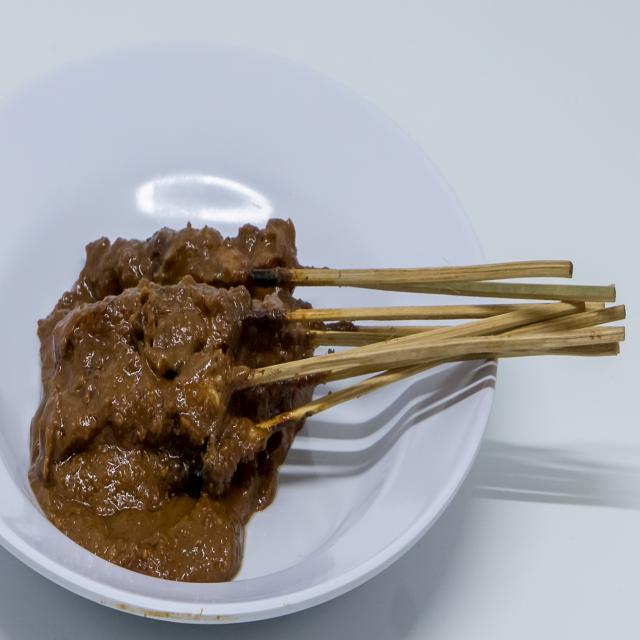Rujak-Cingur: (15, 201, 324, 533)
Sate-Ayam: (14, 199, 324, 531)
